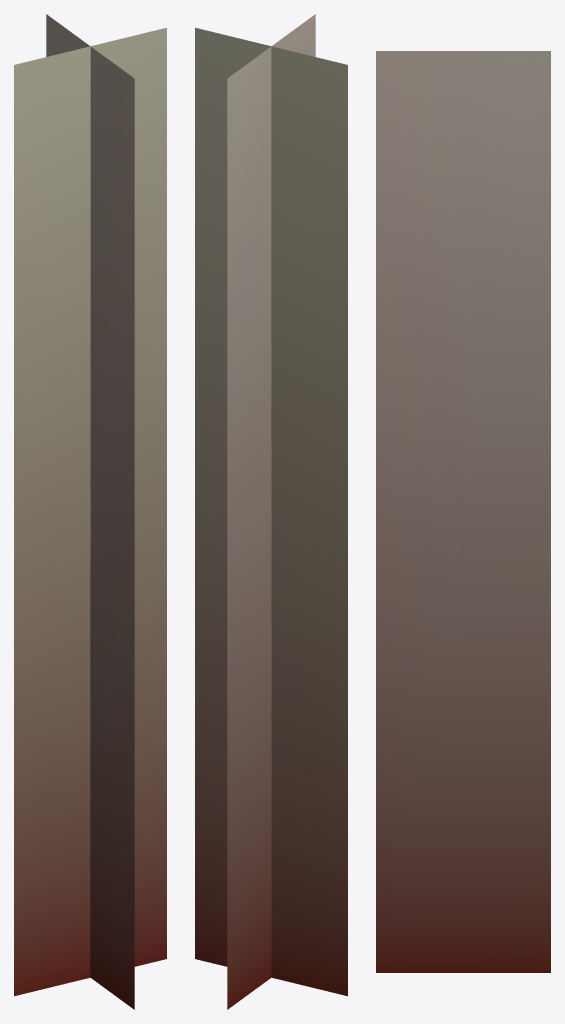
Rendered from groundcover_bk_foret_broceliande_0002.glb.
3 views of the same model, side by side, from view 1: azimuth 30°, elevation 25°; view 2: azimuth 150°, elevation 25°; view 3: azimuth 270°, elevation 25° (orthographic).
Parts seen in each view (by area): view 1: groundcover_bk_002; view 2: groundcover_bk_002; view 3: groundcover_bk_002.
Part boxes in pixels (bbox=[...]): groundcover_bk_002: bbox=[14, 14, 166, 1009]; groundcover_bk_002: bbox=[195, 14, 347, 1009]; groundcover_bk_002: bbox=[376, 51, 550, 972].
Size of the model in its own units: 0.0859 by 0.5 by 0.0859.
